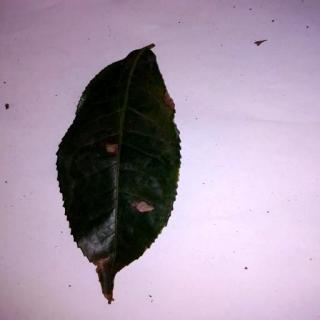Anthracnose: (58, 44, 185, 308)
